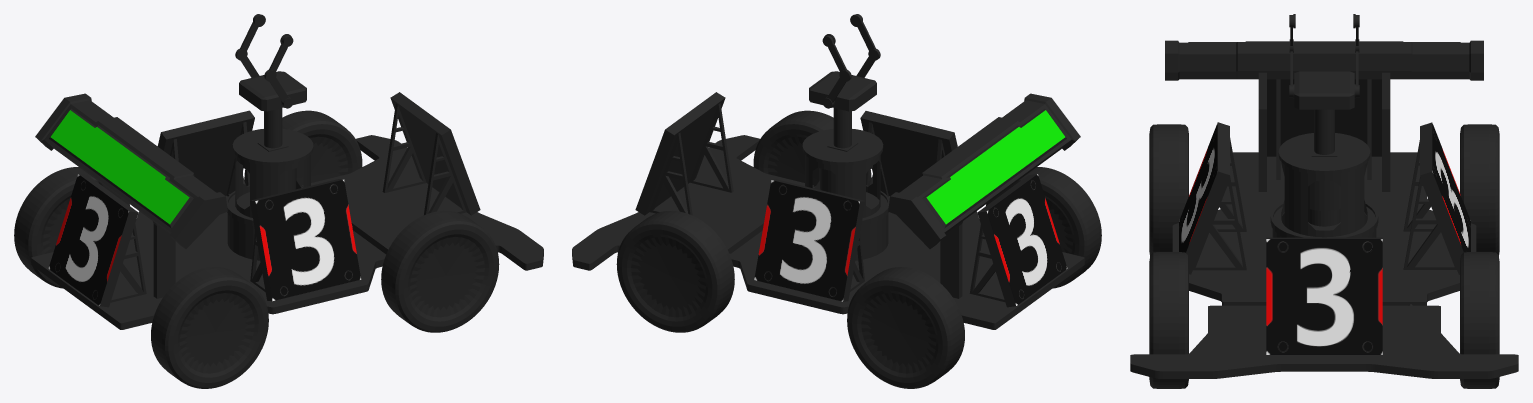
File: red_standard.glb
The picture shows the model from 3 angles, left to right: view 1: azimuth 30°, elevation 25°; view 2: azimuth 150°, elevation 25°; view 3: azimuth 270°, elevation 25°; orthographic projection. The views are drawn at different scales.
Parts seen in each view (by area): view 1: Cylinder.001, Cylinder, Cube.003, plate_front.003, Cube.002, Cube.001, plate_front.001, plate_front.002, Cylinder.003, plate_front, Cube.011, Cube.004 (+6 smaller); view 2: Cylinder.001, Cylinder, Cube.003, plate_front.002, Cube.002, Cube.001, plate_front.001, plate_front.003, Cylinder.003, plate_front, Cube.011, Cylinder.002 (+6 smaller); view 3: Cube.002, Cube.001, plate_front, Cube.003, Cylinder.001, Cylinder, Cylinder.003, plate_front.001, plate_front.003, plate_front.002, Cube.011, Cube.004 (+9 smaller).
Part boxes in pixels (<box>): Cylinder.001: <box>14,167,268,388</box>; Cylinder: <box>244,110,499,332</box>; Cube.003: <box>35,93,227,248</box>; plate_front.003: <box>250,179,361,301</box>; Cube.002: <box>31,195,385,329</box>; Cube.001: <box>302,135,543,270</box>; plate_front.001: <box>48,174,138,307</box>; plate_front.002: <box>157,110,254,195</box>; Cylinder.003: <box>232,128,313,217</box>; plate_front: <box>390,92,480,215</box>; Cube.011: <box>239,71,306,111</box>; Cube.004: <box>98,181,175,298</box>; Cylinder.001: <box>847,167,1101,388</box>; Cylinder: <box>616,110,871,332</box>; Cube.003: <box>888,93,1080,248</box>; plate_front.002: <box>754,179,865,301</box>; Cube.002: <box>730,196,1084,329</box>; Cube.001: <box>572,135,813,270</box>; plate_front.001: <box>977,174,1067,307</box>; plate_front.003: <box>860,111,957,195</box>; Cylinder.003: <box>802,128,883,217</box>; plate_front: <box>635,92,725,215</box>; Cube.011: <box>809,71,876,111</box>; Cylinder.002: <box>812,185,889,260</box>; Cube.002: <box>1172,152,1476,305</box>; Cube.001: <box>1130,305,1518,378</box>; plate_front: <box>1266,237,1382,354</box>; Cube.003: <box>1165,40,1483,80</box>; Cylinder.001: <box>1149,124,1499,255</box>; Cylinder: <box>1149,252,1499,388</box>; Cylinder.003: <box>1278,133,1370,237</box>; plate_front.001: <box>1267,79,1381,156</box>; plate_front.003: <box>1179,122,1229,274</box>; plate_front.002: <box>1420,122,1470,274</box>; Cube.011: <box>1294,71,1354,109</box>; Cube.004: <box>1258,72,1390,191</box>.
Bounding box in the file's own units: 1.2 × 0.8013 × 0.9.
3 materials, 1 textured.
